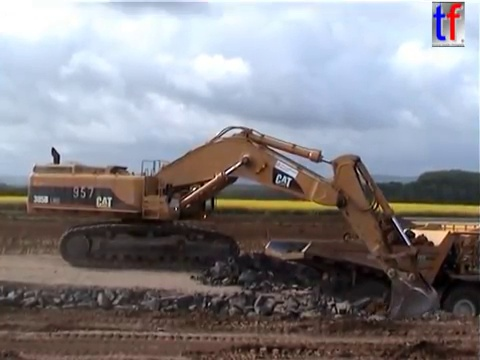excavator: (24, 122, 445, 334)
truck: (260, 219, 480, 334)
